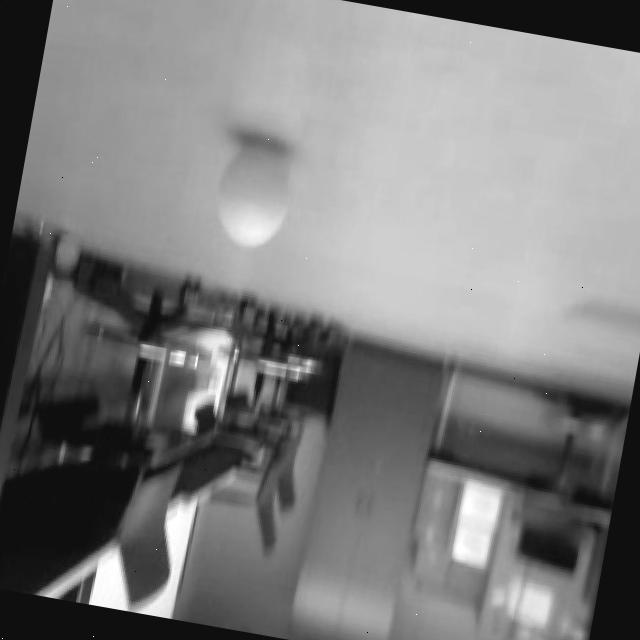ping-pong-ball: (202, 135, 306, 262)
